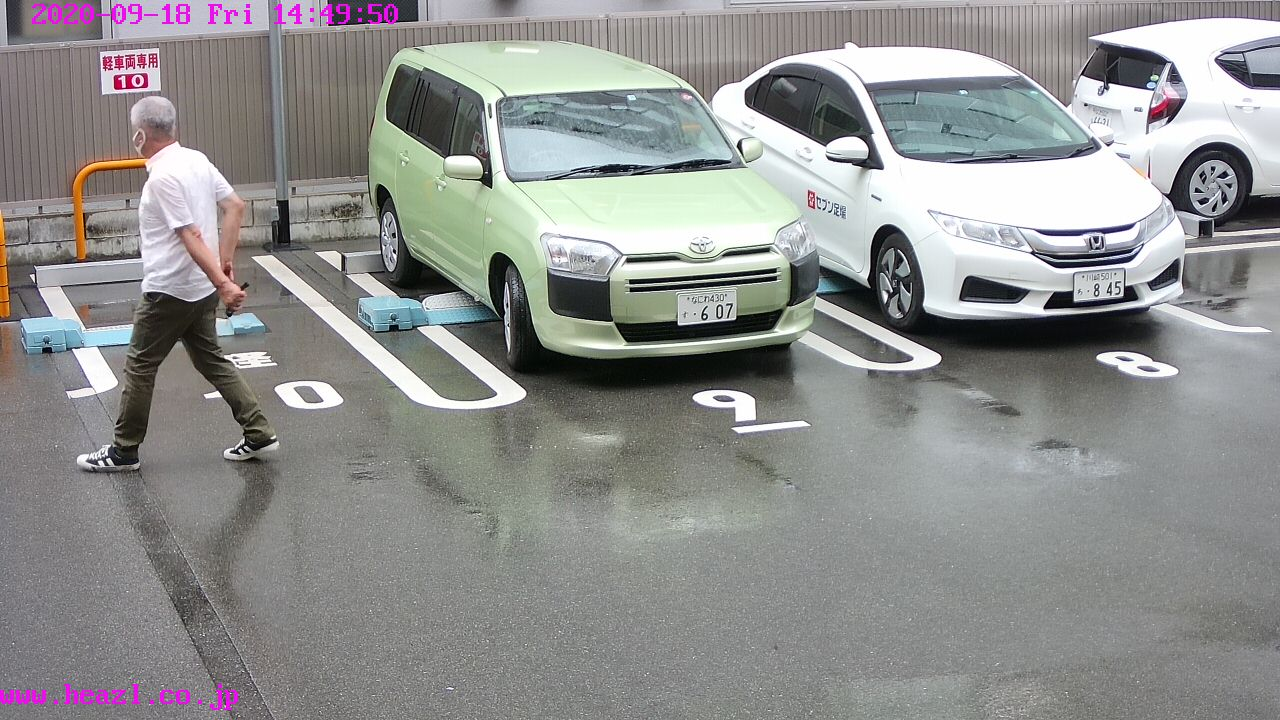number_plate: (676, 288, 738, 322), (1072, 269, 1128, 301), (1084, 102, 1122, 132)
